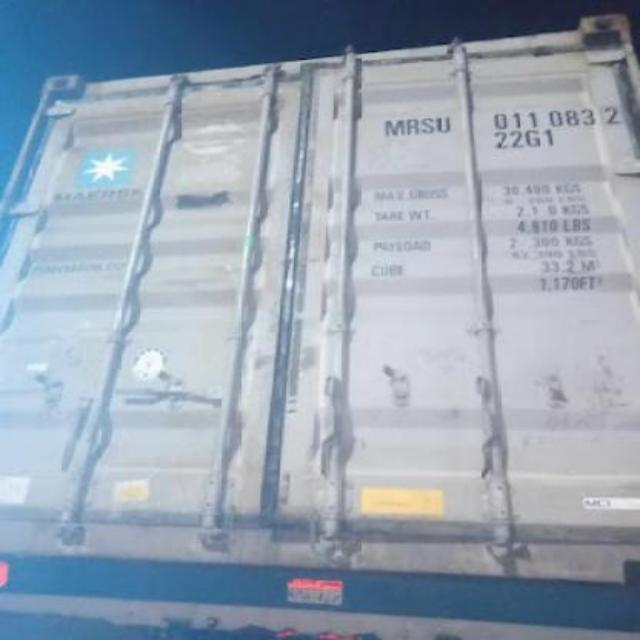0: (492, 111, 508, 131), (550, 104, 562, 128)
1: (511, 106, 524, 128), (526, 108, 540, 128)
2: (604, 104, 622, 126)
3: (582, 102, 596, 128)
8: (566, 103, 578, 127)
M: (384, 115, 404, 139)
R: (406, 114, 419, 136)
S: (421, 114, 434, 136)
U: (436, 112, 454, 138)
